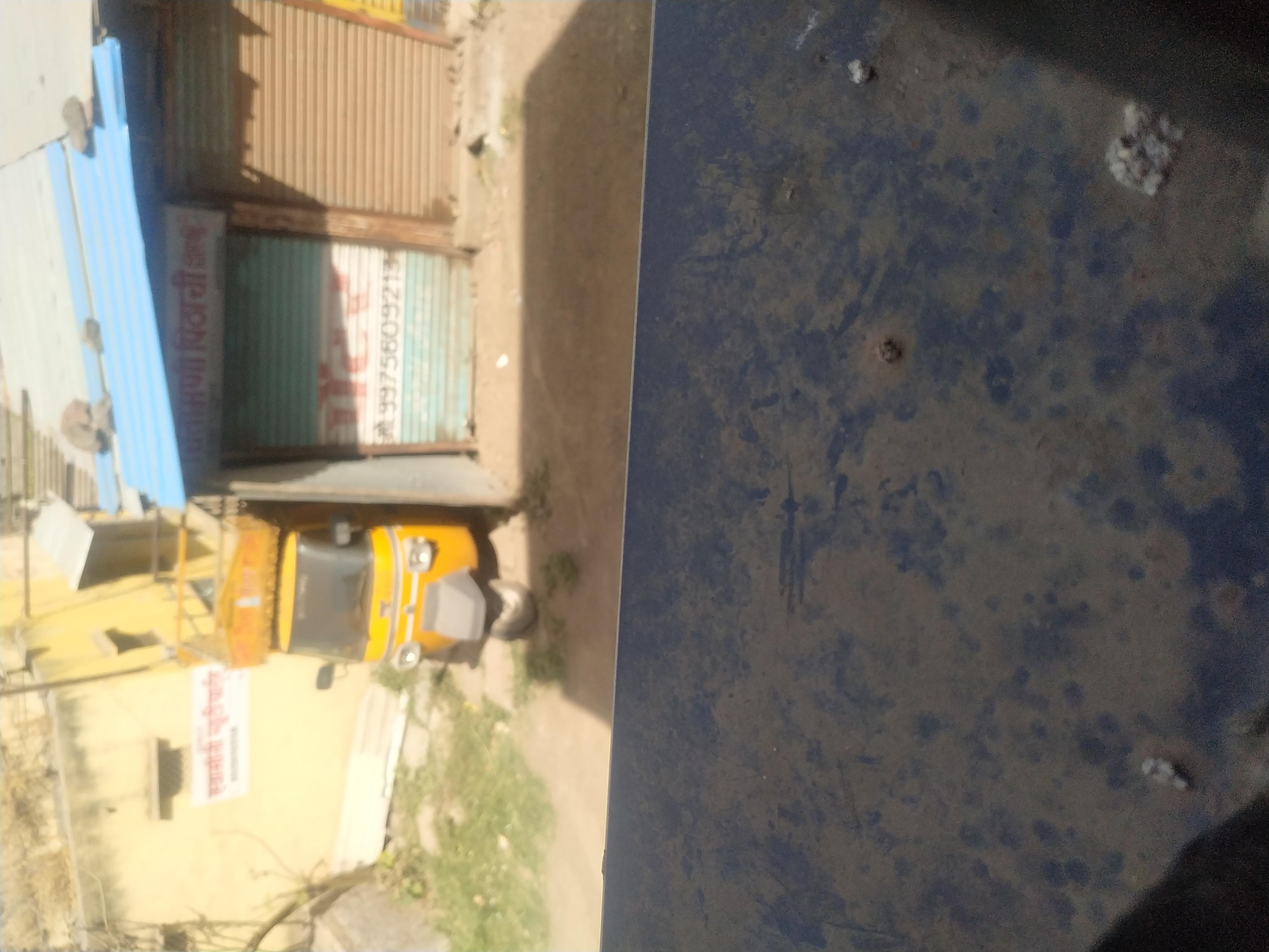Auto: (315, 154, 624, 411)
